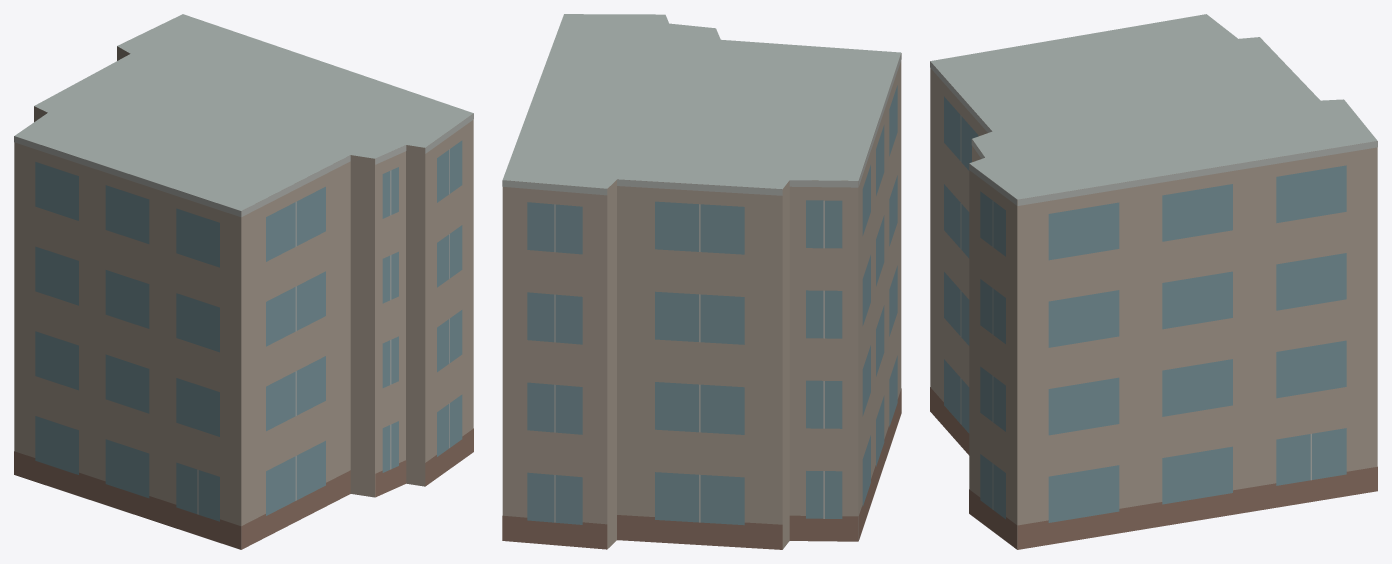
Rendered from survey-upis-32731092.glb.
3 views of the same model, side by side, from view 1: azimuth 30°, elevation 25°; view 2: azimuth 150°, elevation 25°; view 3: azimuth 270°, elevation 25° (orthographic). The views are drawn at different scales.
Visible parts, largest first — view 1: survey-upis-32731092.tmp; view 2: survey-upis-32731092.tmp; view 3: survey-upis-32731092.tmp.
Part boxes in pixels (x1,y1,x2,y2): survey-upis-32731092.tmp: (14,14,473,549); survey-upis-32731092.tmp: (502,14,901,549); survey-upis-32731092.tmp: (930,14,1377,549).
Size of the model in its own units: 15.02 by 13.2 by 15.3.
